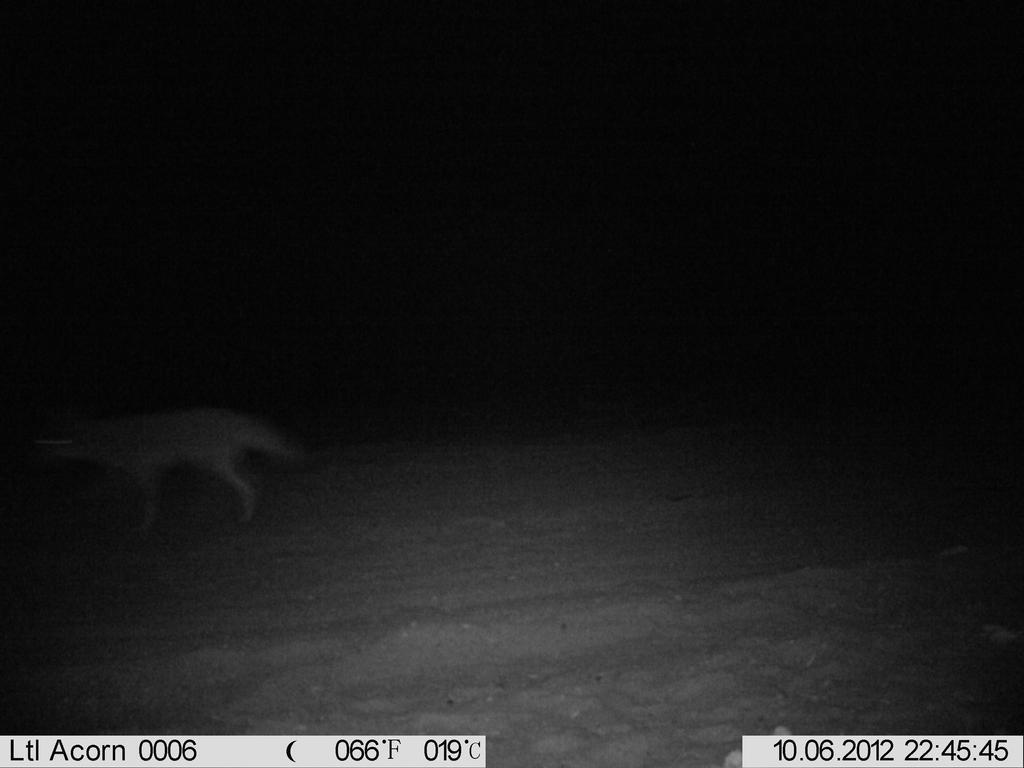coyote: (27, 400, 309, 539)
